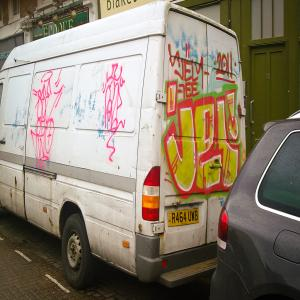Vehicle-registration-plate: (178, 203, 203, 243)
